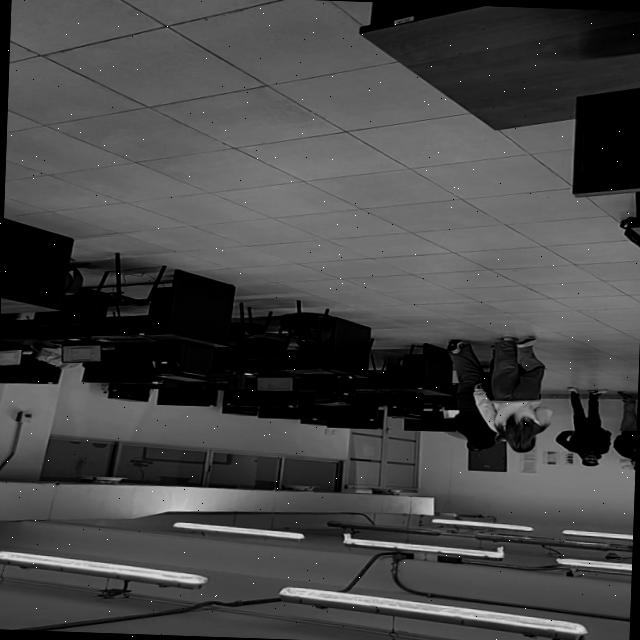Persona: (492, 332, 554, 454), (444, 334, 494, 452), (556, 385, 614, 472), (615, 392, 638, 474)
